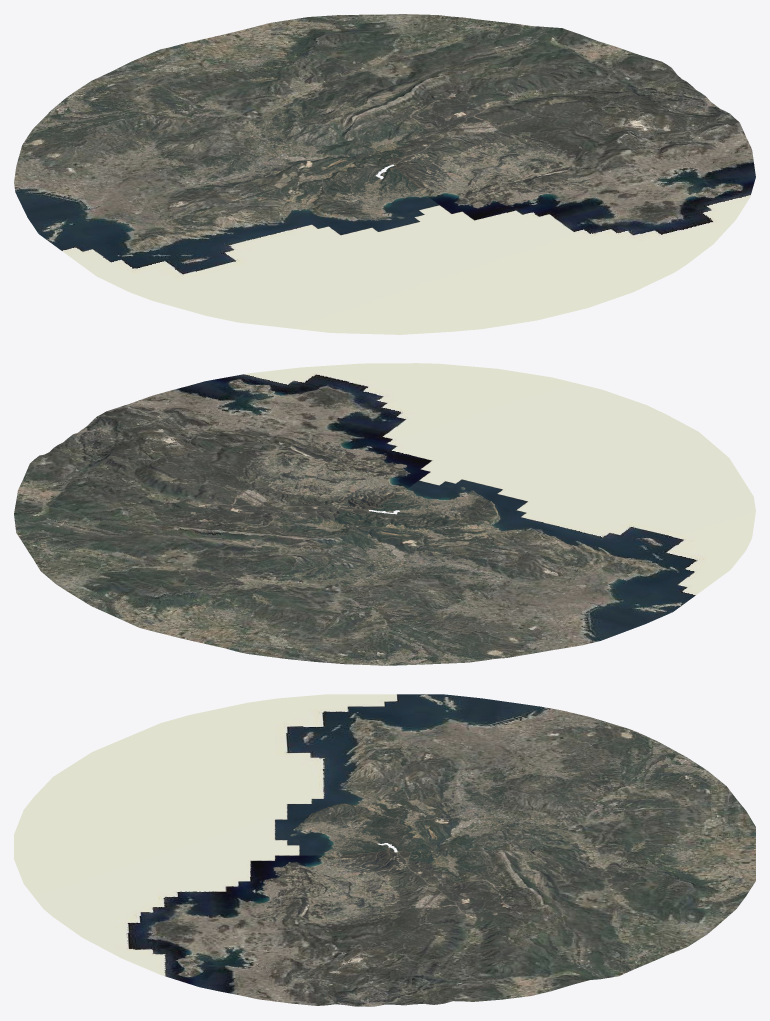
Rendered from lointain.glb.
The picture shows the model from 3 angles, top to bottom: view 1: azimuth 30°, elevation 25°; view 2: azimuth 150°, elevation 25°; view 3: azimuth 270°, elevation 25°; orthographic projection. The views are drawn at different scales.
Visible parts, largest first — view 1: lointain_5km_890000_6250000, lointain_5km_915000_6245000, lointain_5km_920000_6245000, lointain_5km_935000_6230000, lointain_5km_925000_6240000, lointain_5km_930000_6230000, lointain_5km_930000_6240000, lointain_5km_910000_6210000, lointain_5km_930000_6235000, lointain_5km_935000_6235000, lointain_5km_910000_6265000, lointain_5km_890000_6230000 (+110 smaller); view 2: lointain_5km_915000_6250000, lointain_5km_920000_6265000, lointain_5km_930000_6250000, lointain_5km_910000_6265000, lointain_5km_920000_6250000, lointain_5km_890000_6245000, lointain_5km_935000_6250000, lointain_5km_910000_6210000, lointain_5km_890000_6230000, lointain_5km_925000_6255000, lointain_5km_890000_6225000, lointain_5km_910000_6250000 (+108 smaller); view 3: lointain_5km_910000_6210000, lointain_5km_910000_6265000, lointain_5km_930000_6250000, lointain_5km_930000_6225000, lointain_5km_890000_6230000, lointain_5km_925000_6260000, lointain_5km_890000_6225000, lointain_5km_905000_6255000, lointain_5km_905000_6250000, lointain_5km_935000_6245000, lointain_5km_935000_6250000, lointain_5km_890000_6245000 (+111 smaller).
Boxes of the visible parts, <box> form: lointain_5km_890000_6250000: <box>18,160,109,200</box>; lointain_5km_915000_6245000: <box>316,111,397,154</box>; lointain_5km_920000_6245000: <box>368,103,450,141</box>; lointain_5km_935000_6230000: <box>616,133,696,171</box>; lointain_5km_925000_6240000: <box>451,112,533,151</box>; lointain_5km_930000_6230000: <box>563,145,646,184</box>; lointain_5km_930000_6240000: <box>505,98,587,137</box>; lointain_5km_910000_6210000: <box>470,289,557,326</box>; lointain_5km_930000_6235000: <box>534,121,617,161</box>; lointain_5km_935000_6235000: <box>586,109,667,144</box>; lointain_5km_910000_6265000: <box>132,43,227,77</box>; lointain_5km_890000_6230000: <box>139,251,226,288</box>; lointain_5km_915000_6250000: <box>256,536,337,578</box>; lointain_5km_920000_6265000: <box>114,591,197,632</box>; lointain_5km_930000_6250000: <box>98,502,182,536</box>; lointain_5km_910000_6265000: <box>219,621,300,658</box>; lointain_5km_920000_6250000: <box>204,529,285,564</box>; lointain_5km_890000_6245000: <box>545,587,626,621</box>; lointain_5km_935000_6250000: <box>48,489,132,527</box>; lointain_5km_910000_6210000: <box>544,385,636,421</box>; lointain_5km_890000_6230000: <box>631,523,717,559</box>; lointain_5km_925000_6255000: <box>119,536,204,573</box>; lointain_5km_890000_6225000: <box>660,500,745,535</box>; lointain_5km_910000_6250000: <box>307,554,389,591</box>; lointain_5km_910000_6210000: <box>14,815,82,846</box>; lointain_5km_910000_6265000: <box>687,811,755,844</box>; lointain_5km_930000_6250000: <box>507,913,570,945</box>; lointain_5km_930000_6225000: <box>199,920,267,949</box>; lointain_5km_890000_6230000: <box>258,715,326,743</box>; lointain_5km_925000_6260000: <box>629,887,687,921</box>; lointain_5km_890000_6225000: <box>199,715,267,743</box>; lointain_5km_905000_6255000: <box>566,787,628,817</box>; lointain_5km_905000_6250000: <box>507,787,569,817</box>; lointain_5km_935000_6245000: <box>443,939,511,970</box>; lointain_5km_935000_6250000: <box>502,939,570,969</box>; lointain_5km_890000_6245000: <box>443,715,511,743</box>.
Bounding box in the file's own units: 60800 × 1163 × 60800.
249 materials, 249 textured.
